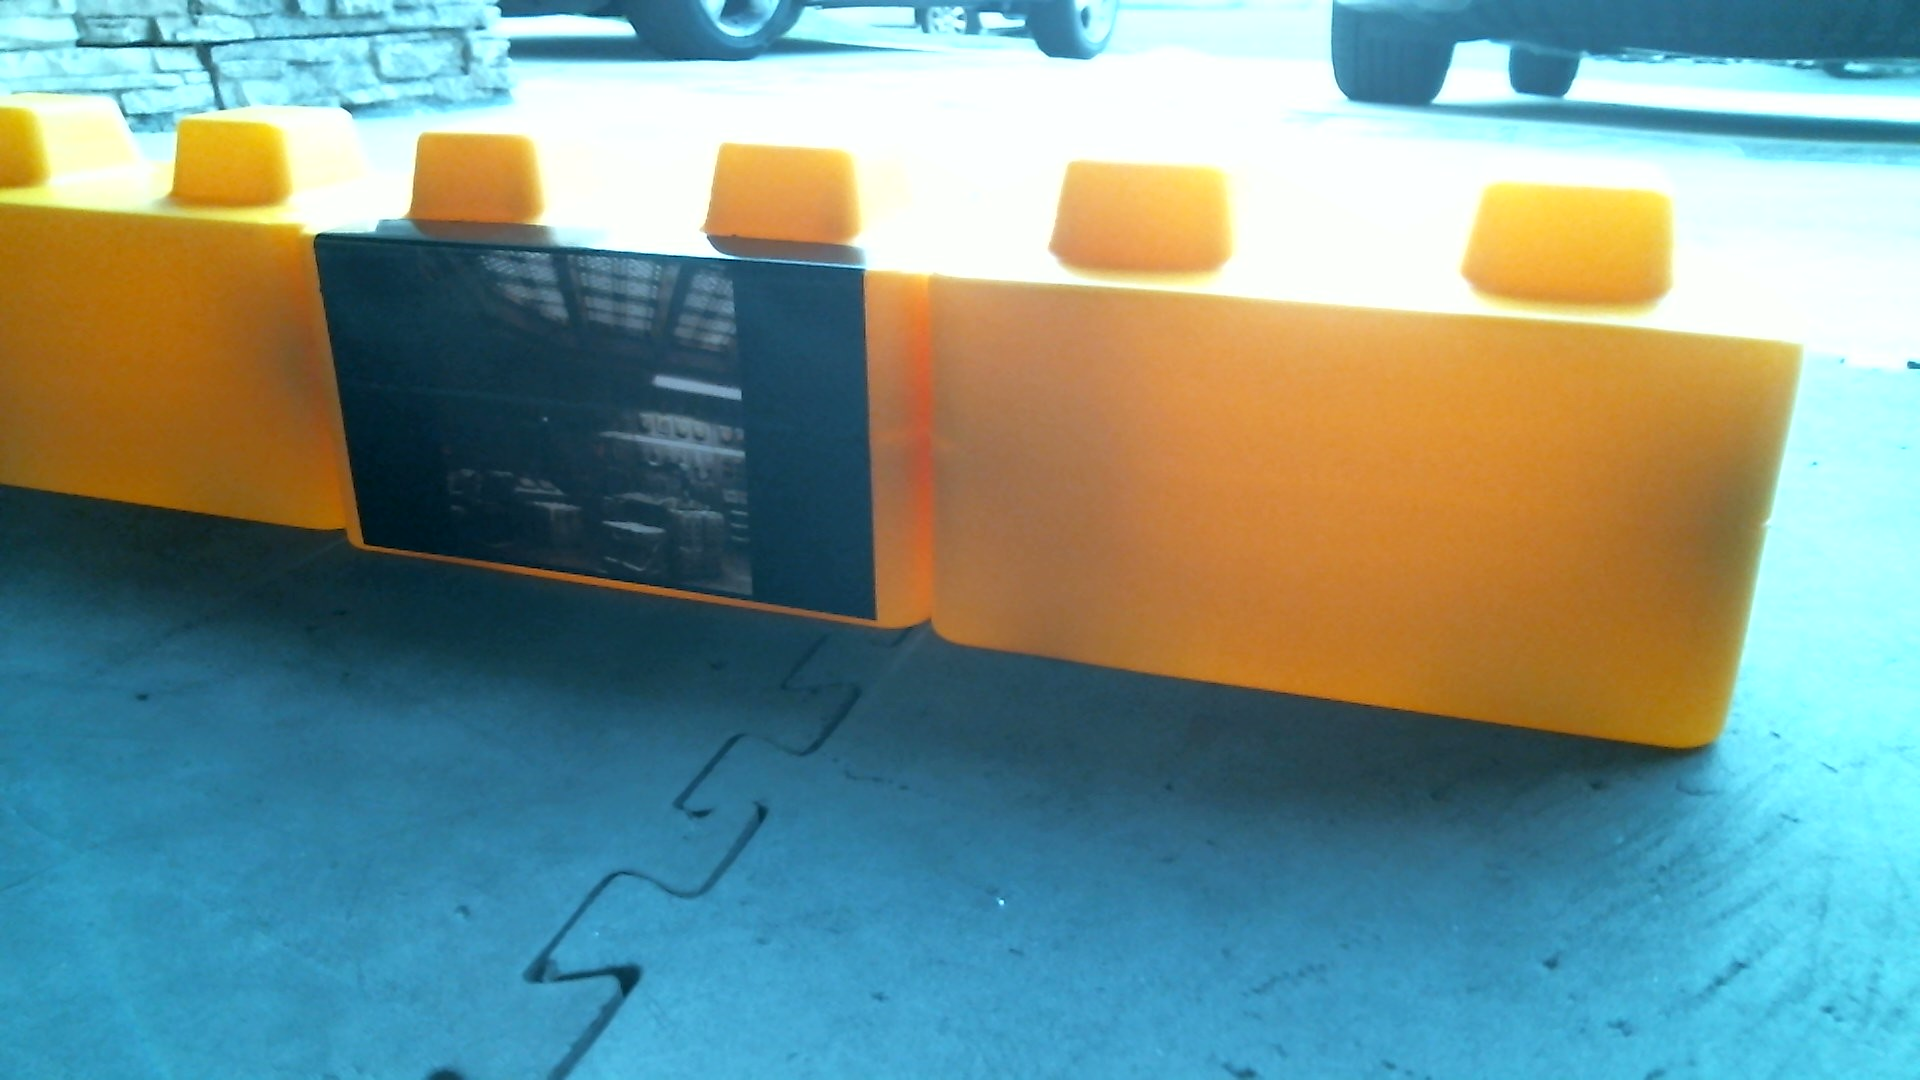center: (1, 44, 1822, 764)
